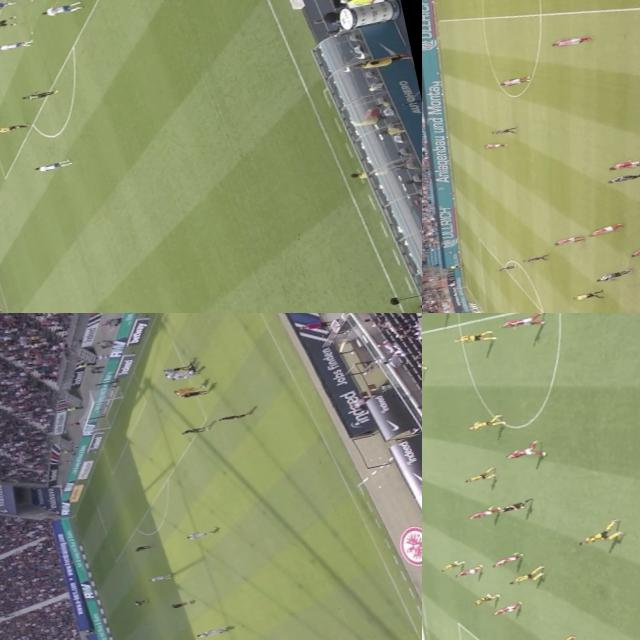ball: (198, 382, 208, 390)
player: (566, 520, 620, 550), (502, 440, 546, 463), (495, 313, 543, 332), (504, 567, 542, 588), (39, 0, 80, 19), (452, 328, 494, 346), (548, 32, 592, 49), (31, 158, 72, 176), (467, 413, 503, 432), (17, 86, 54, 104), (603, 168, 640, 186), (462, 466, 498, 484), (214, 409, 252, 425), (168, 381, 206, 397), (192, 624, 229, 640), (488, 601, 520, 619), (166, 368, 204, 383), (0, 37, 32, 54), (180, 528, 214, 544), (179, 386, 213, 402), (200, 623, 234, 638), (607, 156, 640, 171), (492, 552, 522, 568), (464, 506, 494, 522), (468, 592, 497, 608), (597, 268, 630, 282), (142, 571, 175, 585), (436, 558, 466, 573), (449, 566, 480, 580), (588, 224, 623, 236), (178, 424, 206, 439), (551, 234, 582, 247), (160, 368, 190, 380), (165, 598, 194, 610), (128, 542, 156, 554), (128, 596, 155, 608), (626, 238, 640, 258), (0, 15, 14, 34), (488, 126, 514, 136), (183, 359, 199, 375), (500, 76, 530, 84), (522, 255, 548, 264), (482, 140, 506, 148), (0, 0, 10, 13), (496, 266, 515, 272), (0, 0, 30, 3)
